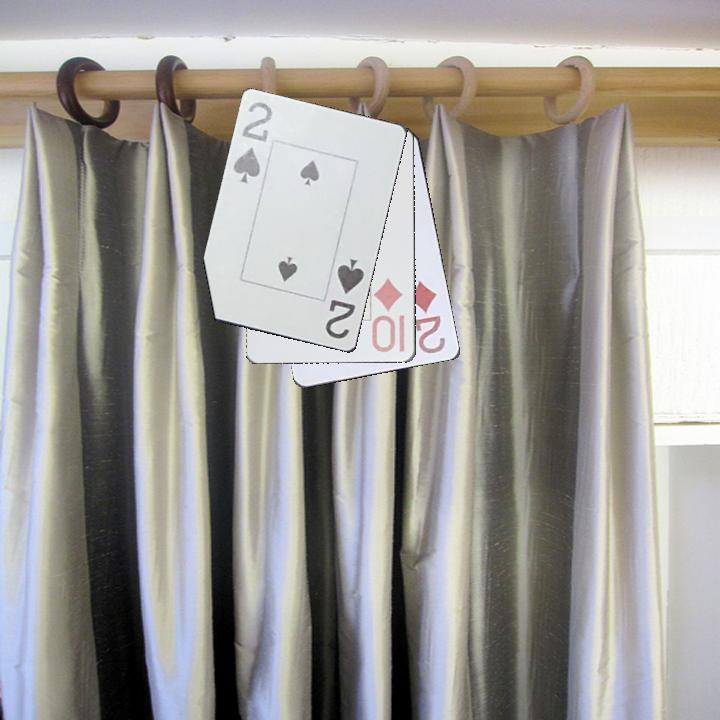2d: (406, 275, 449, 357)
2s: (322, 255, 368, 342), (230, 98, 275, 186)
Td: (372, 274, 408, 355)
